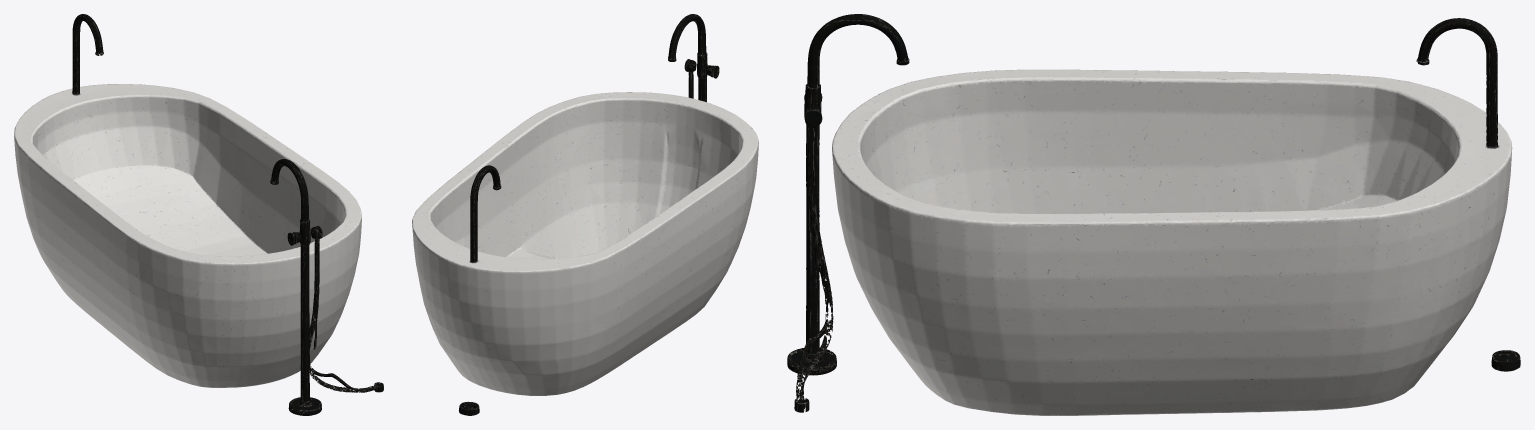
Rendered from luxury_freestanding_bathtub.raw.glb.
3 renders of one model, left to right at view 1: azimuth 30°, elevation 25°; view 2: azimuth 150°, elevation 25°; view 3: azimuth 270°, elevation 25°, orthographic. The views are drawn at different scales.
Parts seen in each view (by area): view 1: world; view 2: world; view 3: world.
Boxes of the visible parts, <box> form: world: <box>14,14,383,415</box>; world: <box>412,14,758,415</box>; world: <box>787,14,1520,415</box>.
Size of the model in its own units: 0.4983 by 0.5288 by 1.
1 material, 1 textured.
